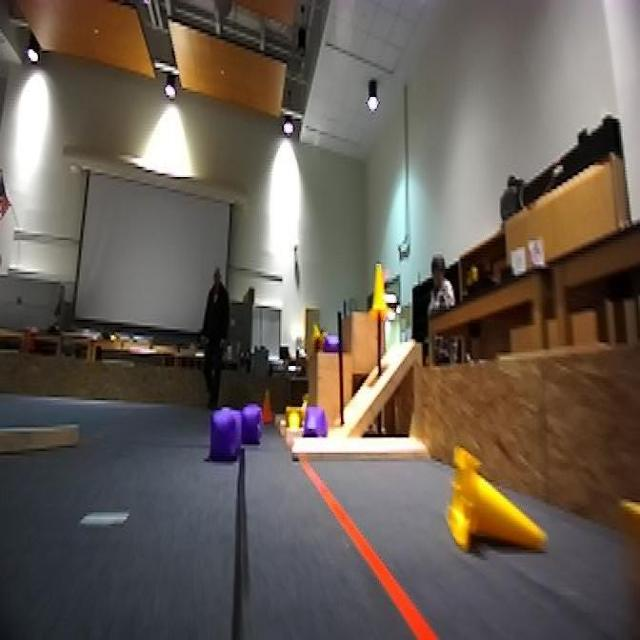frc_cone: (444, 444, 546, 548), (368, 262, 388, 315), (282, 408, 305, 431)
frc_cube: (210, 412, 244, 463), (242, 405, 264, 444), (301, 402, 323, 436), (325, 330, 342, 354)
